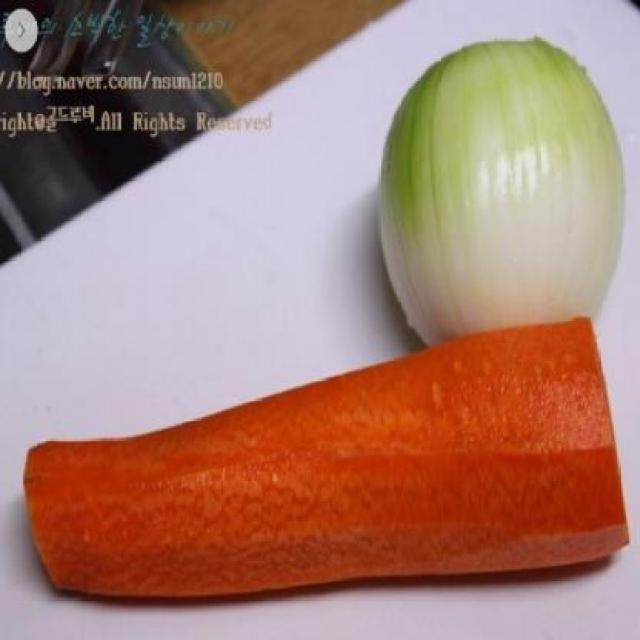carrot: (15, 314, 635, 605)
